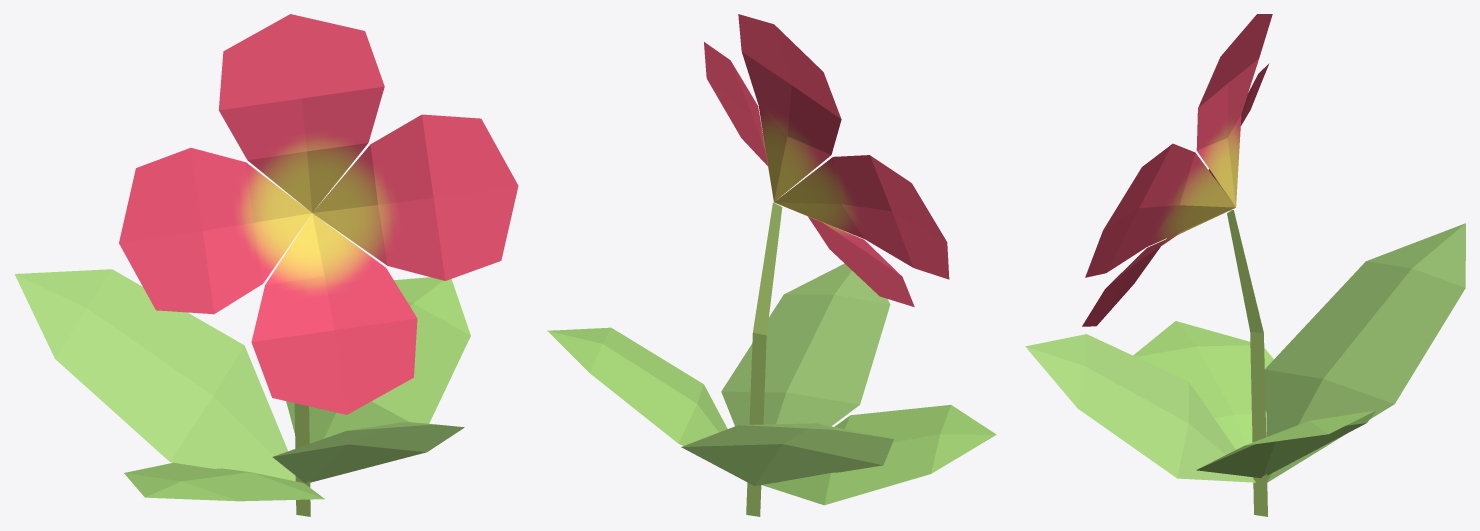
Rendered from Flower_c_OneS_11.fbx.
3 views of the same model, side by side, from view 1: azimuth 30°, elevation 25°; view 2: azimuth 150°, elevation 25°; view 3: azimuth 270°, elevation 25° (orthographic). The views are drawn at different scales.
Parts seen in each view (by area): view 1: Flower_c_OneS_11; view 2: Flower_c_OneS_11; view 3: Flower_c_OneS_11.
Part boxes in pixels (bbox=[...]): Flower_c_OneS_11: bbox=[14, 14, 518, 516]; Flower_c_OneS_11: bbox=[547, 14, 996, 516]; Flower_c_OneS_11: bbox=[1025, 14, 1465, 516].
Size of the model in its own units: 0.3515 by 0.4427 by 0.3594.
